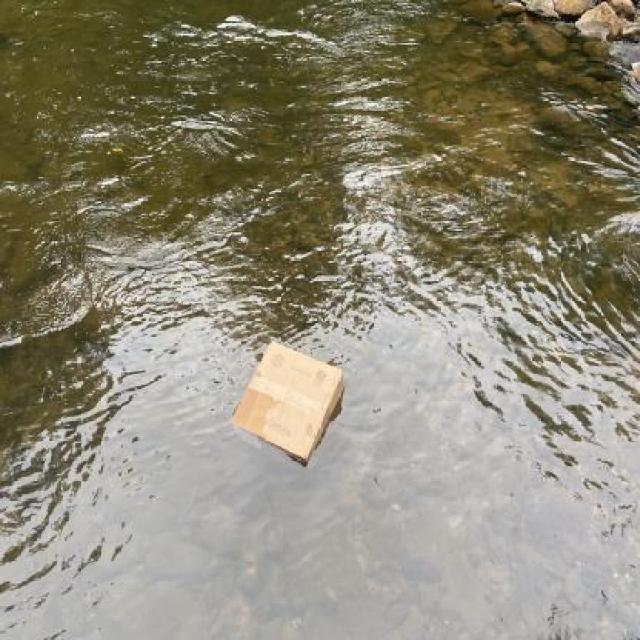Cardboard: (225, 336, 349, 476)
